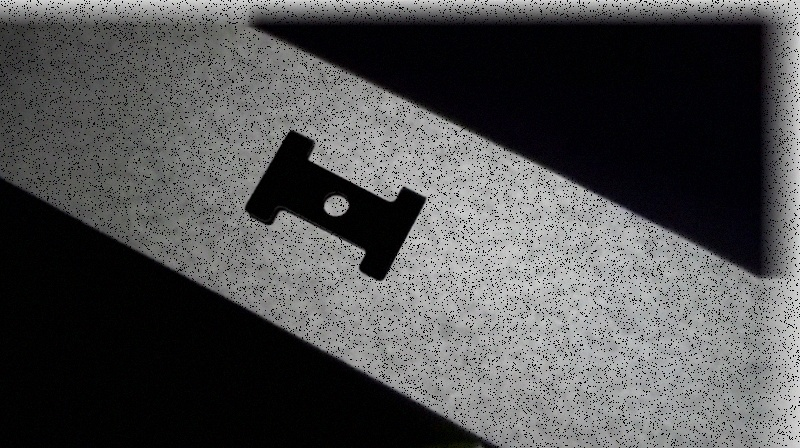O002: (244, 127, 428, 283)
